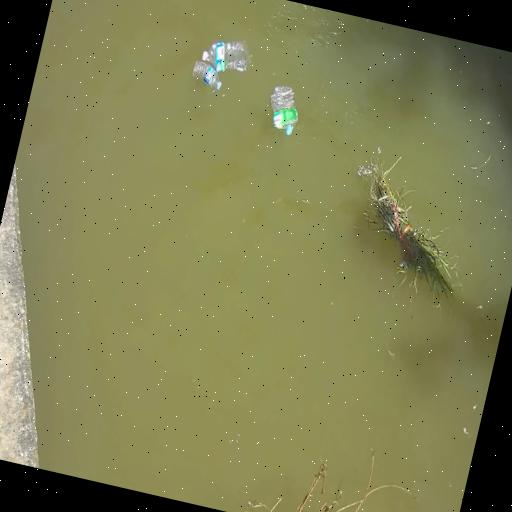plastic: (195, 25, 256, 78), (259, 81, 304, 144), (188, 59, 226, 94)
twig: (352, 172, 472, 282), (281, 451, 378, 512)
